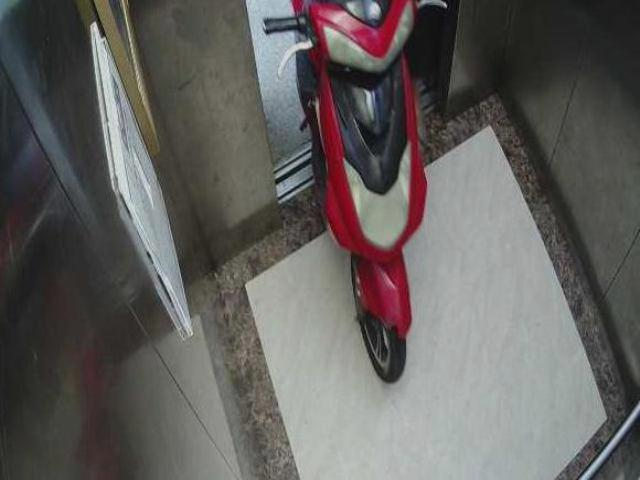emotor: (263, 4, 434, 390)
